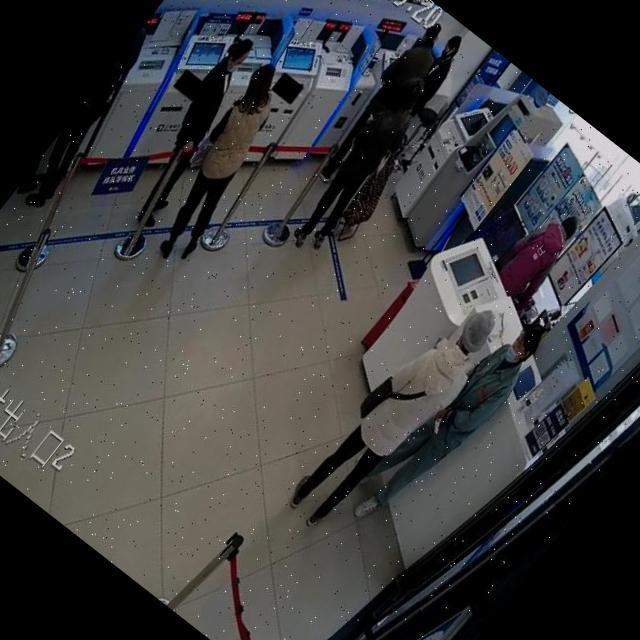person: (281, 282, 509, 548), (341, 300, 554, 547), (128, 59, 314, 272), (110, 32, 280, 230), (15, 14, 178, 210), (278, 72, 438, 260), (309, 15, 456, 189), (484, 199, 587, 312), (396, 31, 473, 120), (13, 116, 84, 202)
